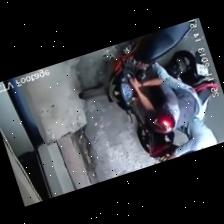person: (130, 61, 202, 132), (167, 99, 217, 159)
